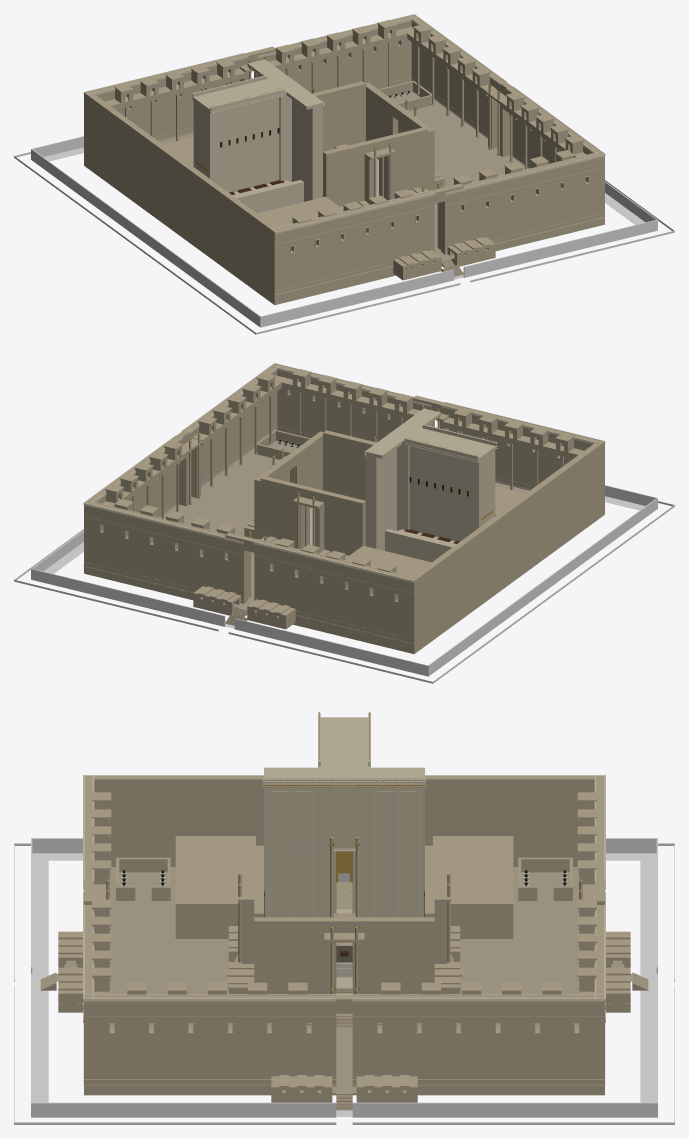
The model's file is mikdash.glb.
3 views of the same model, one above another, from view 1: azimuth 30°, elevation 25°; view 2: azimuth 150°, elevation 25°; view 3: azimuth 270°, elevation 25° (orthographic). The views are drawn at different scales.
Visible parts, largest first — view 1: stone, paving, soreg; view 2: stone, paving, soreg; view 3: stone, paving, soreg, gold.
Boxes of the visible parts, left/top/right/bottom form: stone: left=31, top=14, right=657, bottom=327; paving: left=43, top=91, right=645, bottom=279; soreg: left=14, top=152, right=674, bottom=334; stone: left=31, top=363, right=657, bottom=676; paving: left=43, top=440, right=645, bottom=628; soreg: left=14, top=501, right=674, bottom=683; stone: left=31, top=712, right=657, bottom=1117; paving: left=32, top=853, right=656, bottom=1116; soreg: left=14, top=843, right=674, bottom=1124; gold: left=106, top=712, right=582, bottom=992.
Size of the model in its own units: 206 by 61.3 by 206.
